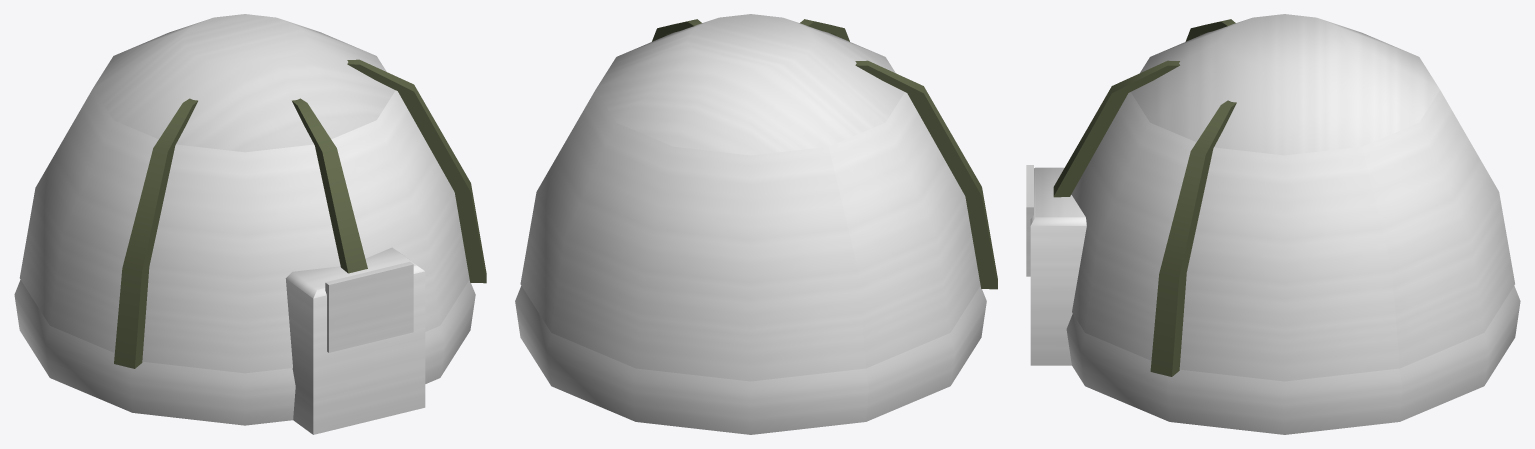
File: broadshield_projector.obj
The picture shows the model from 3 angles, left to right: view 1: azimuth 30°, elevation 25°; view 2: azimuth 150°, elevation 25°; view 3: azimuth 270°, elevation 25°; orthographic projection. The views are drawn at different scales.
Parts seen in each view (by area): view 1: source_component_001, source_component_000, source_component_005, source_component_002, source_component_006, source_component_004, source_component_003; view 2: source_component_001, source_component_000, source_component_002; view 3: source_component_001, source_component_000, source_component_005, source_component_004, source_component_003, source_component_006.
Part boxes in pixels (x1,y1,x2,y2): source_component_001: (19,14,469,373); source_component_000: (14,280,475,425); source_component_005: (285,247,425,434); source_component_002: (114,98,197,368); source_component_006: (325,261,413,352); source_component_004: (347,59,486,283); source_component_003: (292,98,367,273); source_component_001: (520,14,980,381); source_component_000: (515,286,986,434); source_component_002: (855,60,997,289); source_component_001: (1071,14,1514,381); source_component_000: (1066,286,1520,434); source_component_005: (1030,167,1086,365); source_component_004: (1150,100,1236,376); source_component_003: (1053,60,1179,197); source_component_006: (1026,165,1033,276).
Bounding box in the file's own units: 0.6776 × 0.4697 × 0.7098.
